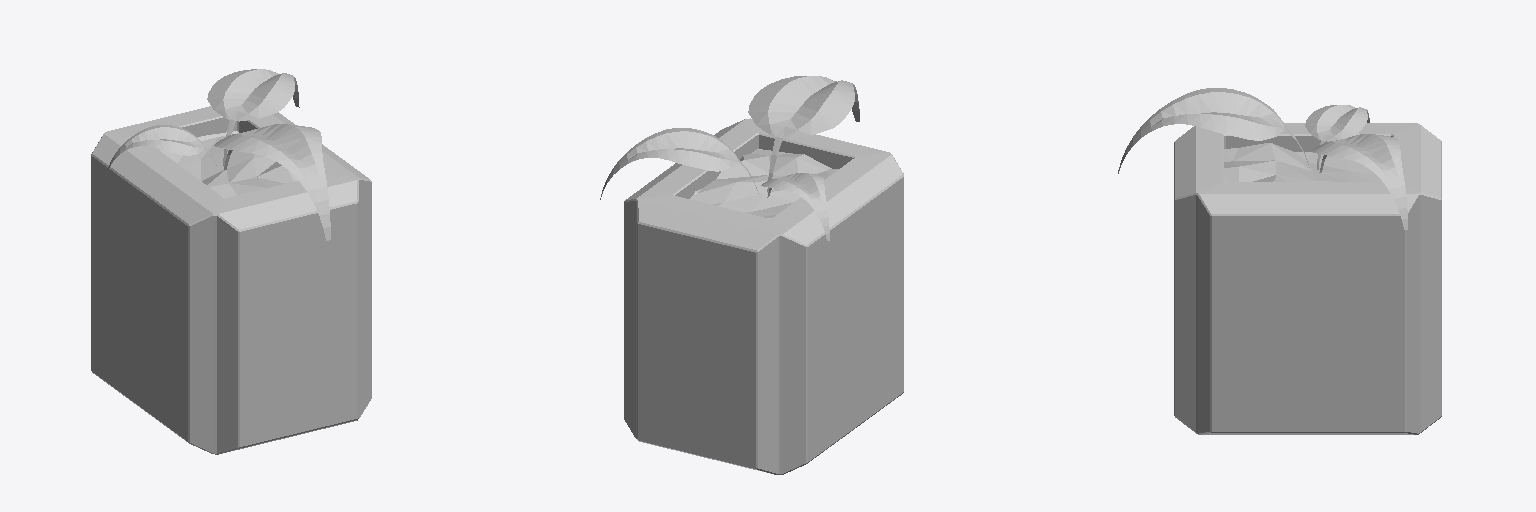
File: plantContainer_small.obj
The picture shows the model from 3 angles: view 1: azimuth 30°, elevation 25°; view 2: azimuth 150°, elevation 25°; view 3: azimuth 270°, elevation 25°; orthographic projection.
Parts seen in each view (by area): view 1: plants_container_small, Plants_; view 2: plants_container_small, Plants_; view 3: plants_container_small, Plants_.
Part boxes in pixels (left/top/right/bottom): plants_container_small: left=91, top=106, right=371, bottom=454; Plants_: left=106, top=69, right=330, bottom=240; plants_container_small: left=624, top=118, right=903, bottom=474; Plants_: left=600, top=76, right=859, bottom=240; plants_container_small: left=1174, top=123, right=1441, bottom=434; Plants_: left=1118, top=88, right=1407, bottom=229.
Bounding box in the file's own units: 0.9135 × 1.23 × 1.22.